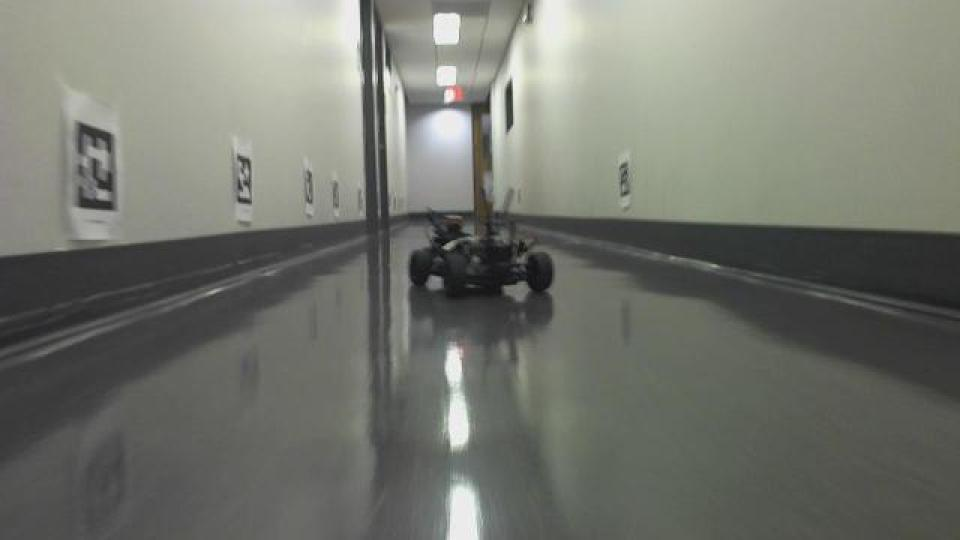car: (404, 186, 556, 302)
